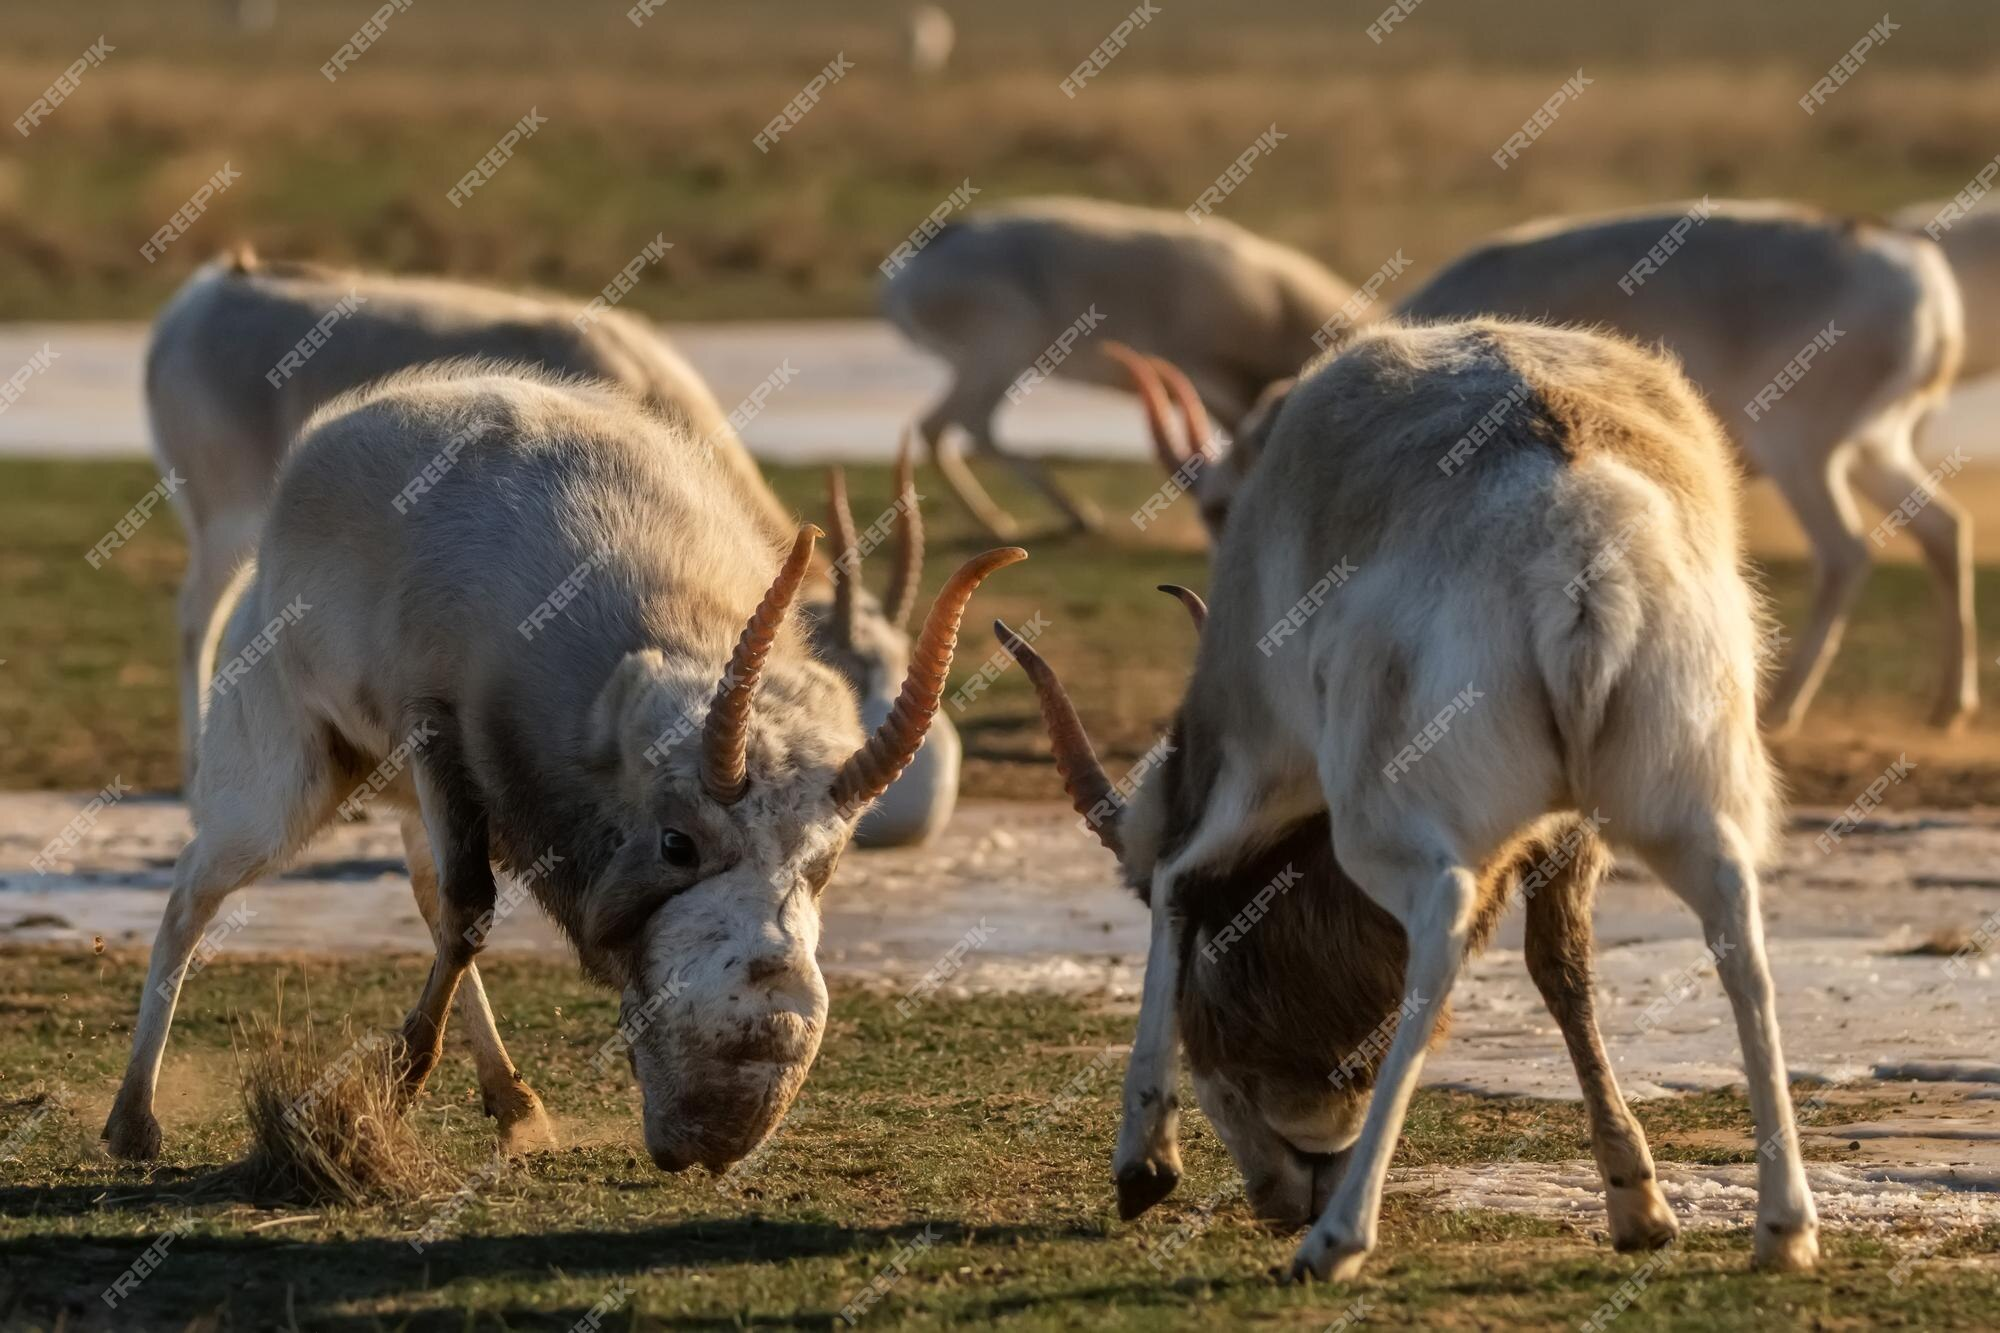saiga: (1001, 318, 1894, 1287), (112, 367, 1013, 1201)
